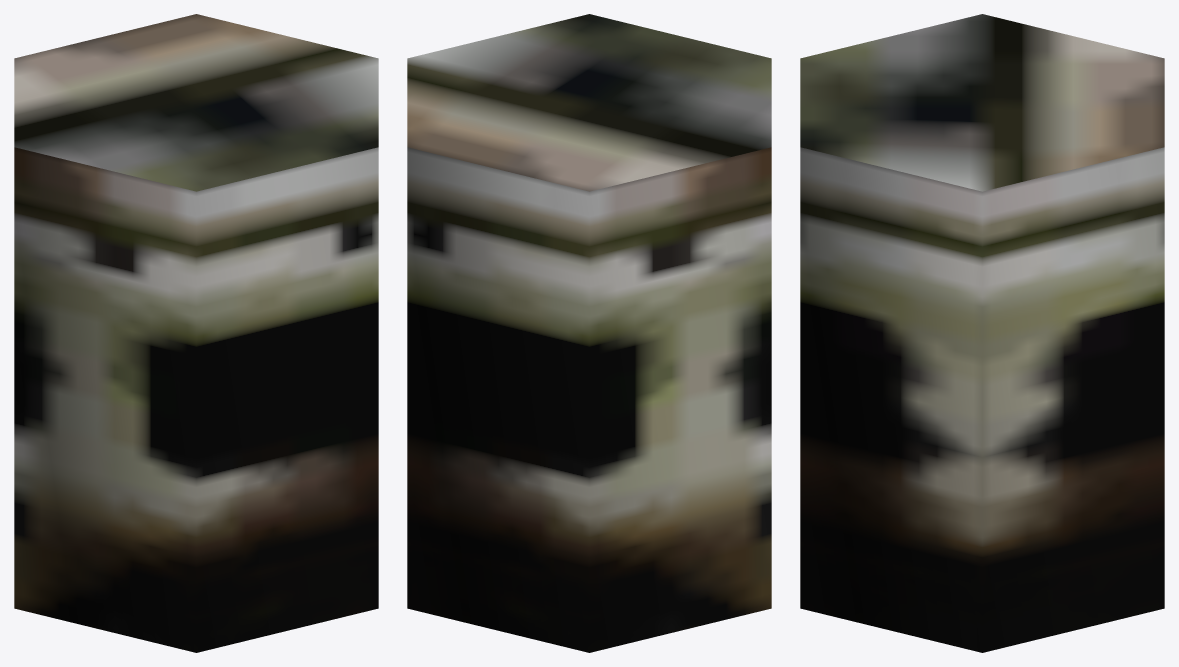
File: GLA - Ground Vehicles - Toxin Truck - Damage State 5 - UVToxinTrk_d5.glb
3 views of the same model, side by side, from view 1: azimuth 30°, elevation 25°; view 2: azimuth 150°, elevation 25°; view 3: azimuth 270°, elevation 25° (orthographic).
Visible parts, largest first — view 1: UVTOXINTRK_D5; view 2: UVTOXINTRK_D5; view 3: UVTOXINTRK_D5.
Part boxes in pixels (x1,y1,x2,y2): UVTOXINTRK_D5: (14,14,378,652); UVTOXINTRK_D5: (407,14,771,652); UVTOXINTRK_D5: (800,14,1164,652).
Size of the model in its own units: 4.12 by 4.98 by 3.57.
1 material, 1 textured.
